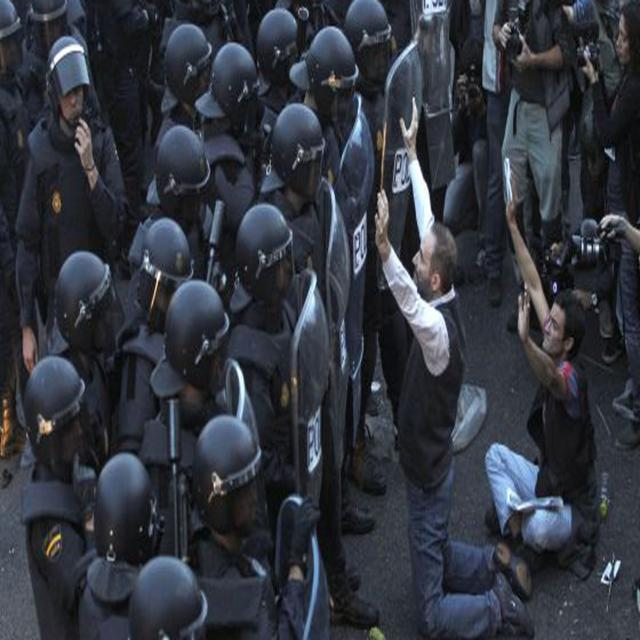police: (114, 12, 286, 640), (253, 20, 374, 640), (6, 244, 161, 640), (21, 19, 122, 387), (344, 5, 420, 491)
